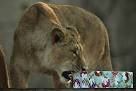lion: (16, 5, 113, 91)
